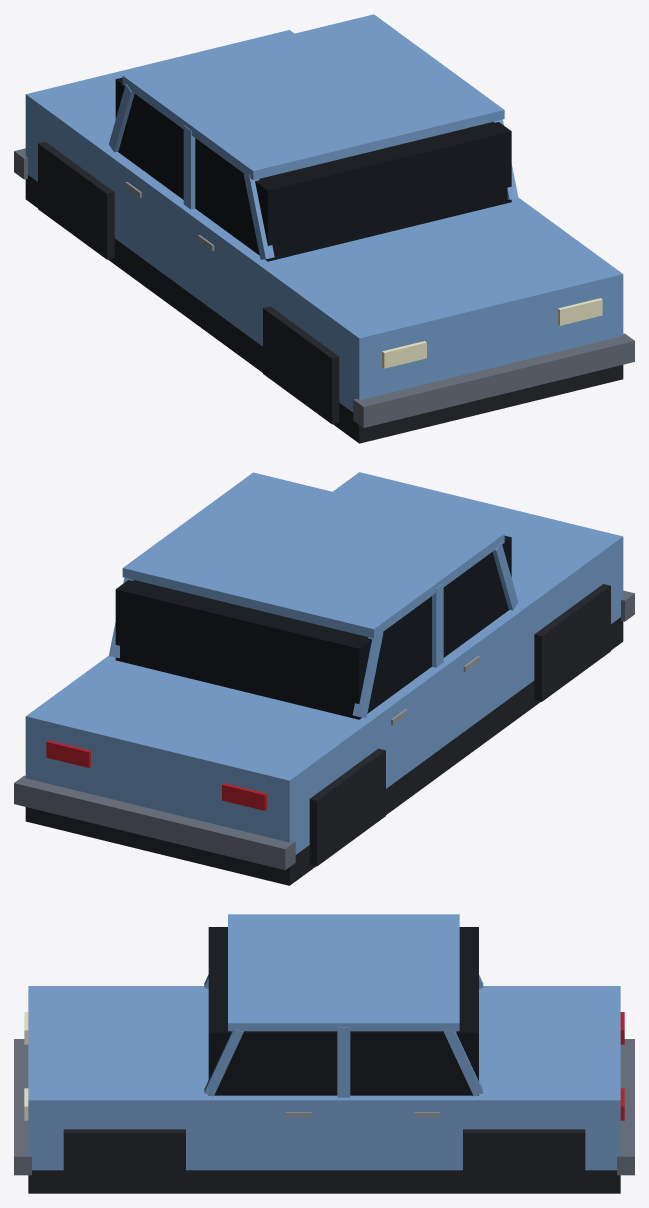
The model's file is traffic_car_3.glb.
The picture shows the model from 3 angles, top to bottom: view 1: azimuth 30°, elevation 25°; view 2: azimuth 150°, elevation 25°; view 3: azimuth 270°, elevation 25°; orthographic projection. The views are drawn at different scales.
Parts seen in each view (by area): view 1: body, body_getaway_glass, body_car_black, body_car_grey, frame, lights_lamp; view 2: body, body_getaway_glass, body_car_black, body_car_grey, frame, lights_tail; view 3: body, body_car_black, body_getaway_glass, body_car_grey, frame.
Boxes of the visible parts, x1,y1,x2,y2 form: body: (25,14,623,412); body_getaway_glass: (115,77,511,261); body_car_black: (25,142,623,443); body_car_grey: (14,148,634,427); frame: (109,84,518,259); lights_lamp: (382,298,602,368); body: (25,472,623,854); body_getaway_glass: (115,536,511,719); body_car_black: (25,584,623,885); body_car_grey: (14,590,634,870); frame: (109,542,518,717); lights_tail: (46,740,266,810); body: (28,914,620,1170); body_car_black: (28,1129,620,1193); body_getaway_glass: (208,927,478,1095); body_car_grey: (14,1039,634,1175); frame: (204,974,483,1097).
Bounding box in the file's own units: 2.22 × 1.44 × 4.82.
